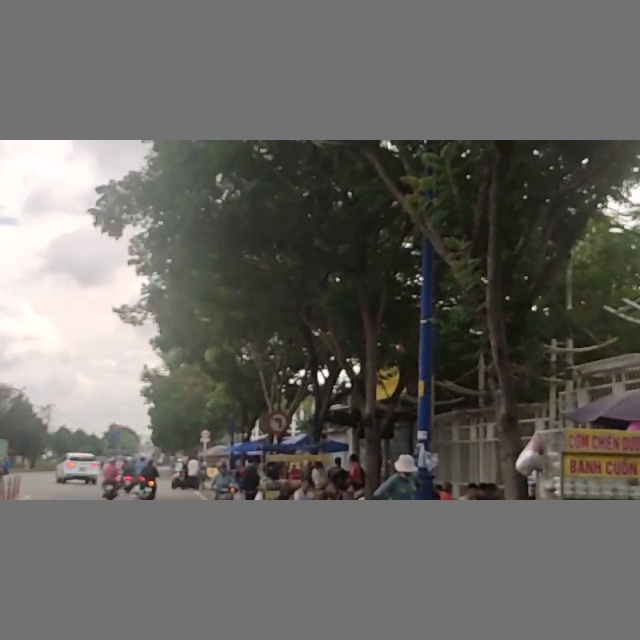P.123a: (267, 409, 289, 434)
